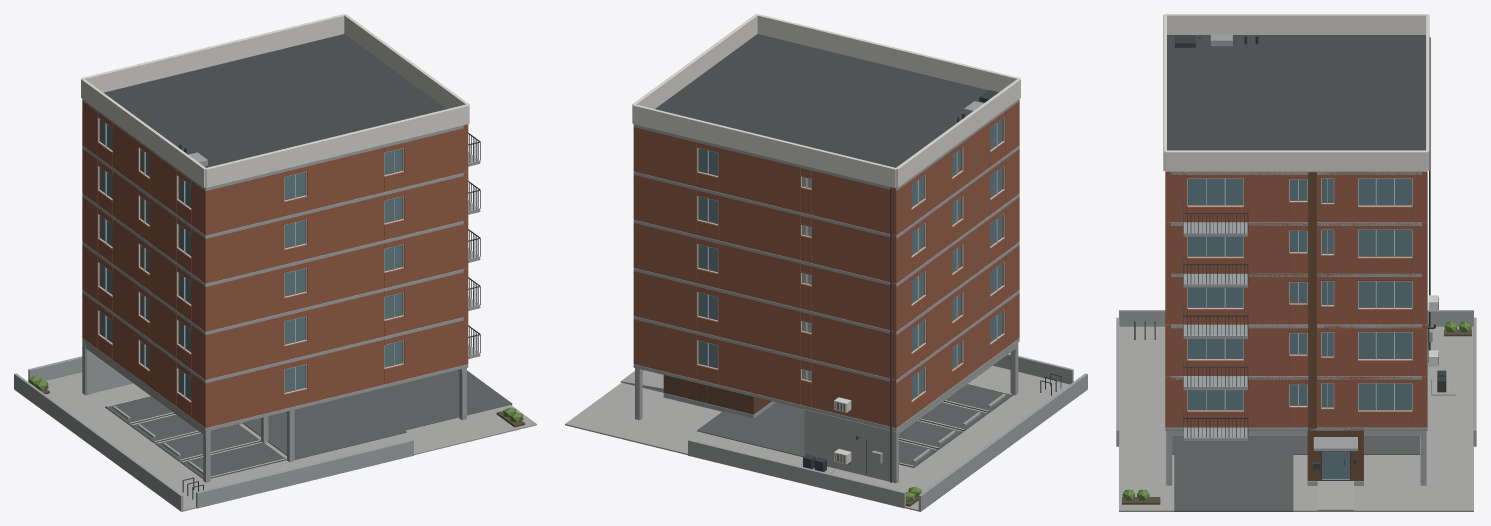
Rendered from VILLA_01_PILOTI_BRICK.fbx.
3 views of the same model, side by side, from view 1: azimuth 30°, elevation 25°; view 2: azimuth 150°, elevation 25°; view 3: azimuth 270°, elevation 25° (orthographic). The views are drawn at different scales.
Visible parts, largest first — view 1: UNITY_ASSET_VILLA_01_PILOTI_BRICK; view 2: UNITY_ASSET_VILLA_01_PILOTI_BRICK; view 3: UNITY_ASSET_VILLA_01_PILOTI_BRICK.
Boxes of the visible parts, <box> form: UNITY_ASSET_VILLA_01_PILOTI_BRICK: <box>14,14,536,511</box>; UNITY_ASSET_VILLA_01_PILOTI_BRICK: <box>565,14,1087,511</box>; UNITY_ASSET_VILLA_01_PILOTI_BRICK: <box>1116,14,1476,511</box>.
Size of the model in its own units: 20.47 by 17.29 by 16.79.
